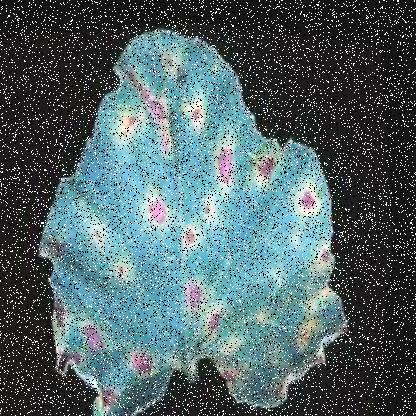Anthracnose: (99, 166, 292, 353), (96, 10, 262, 188), (69, 280, 183, 415)
